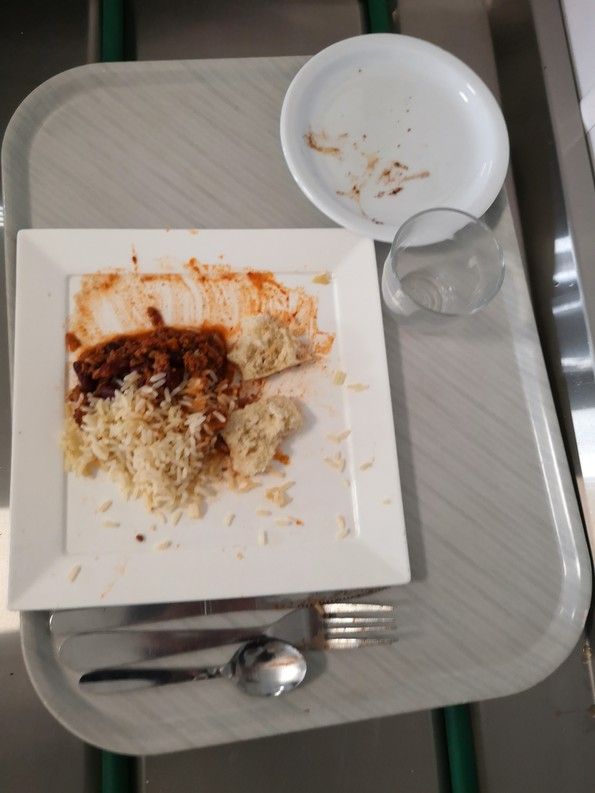cup: (372, 204, 509, 336)
cutlery: (1, 583, 418, 737)
orga: (69, 323, 315, 513)
